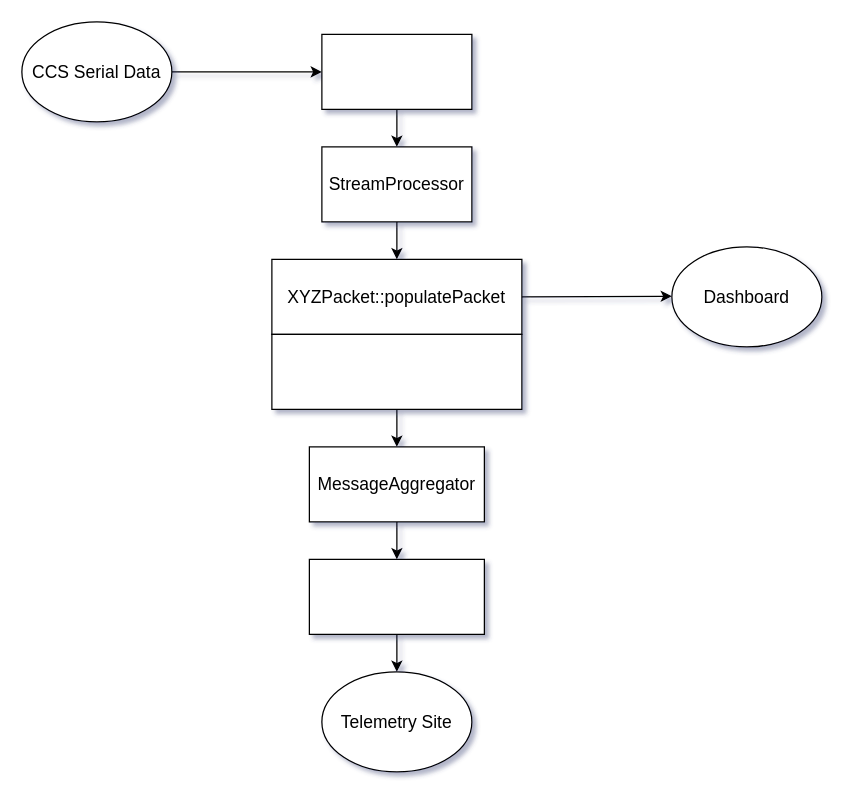
The diagram is 851 pixels wide and 801 high, and some of its shapes have lost their labels. Each missing label, with the box of its shape:
MessageTransmitter: (308, 558, 484, 634)
SerialReceiver: (321, 33, 472, 109)
XYZPacket::toJson: (271, 333, 522, 409)
